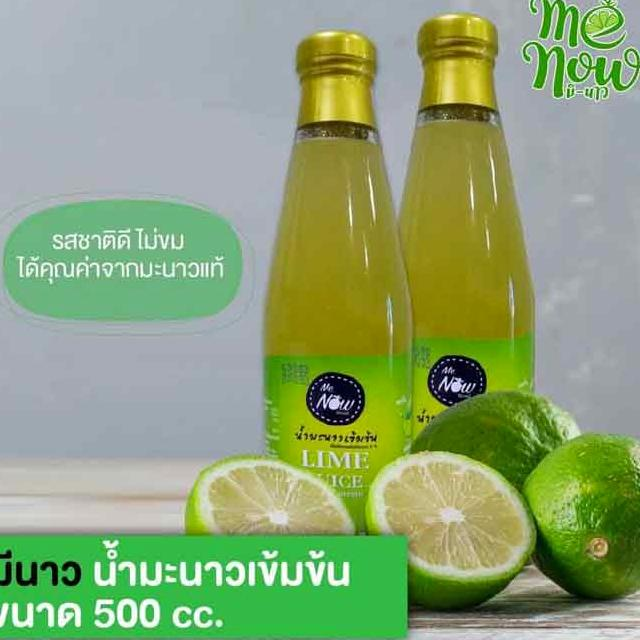lime: (388, 383, 592, 564), (520, 424, 640, 608)
